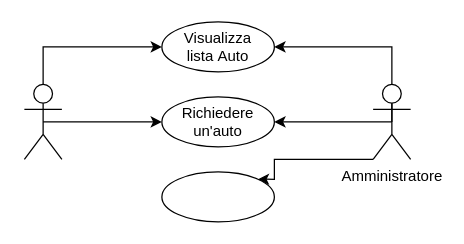
This 464x244 diagram has some shape labels left out. The shapes that lost their labels are listed below. From the top down, each one's centre as x and y in pixels, then its label:
At [42,121]: "Utente".
At [217,196]: "Assegnare un'auto".
